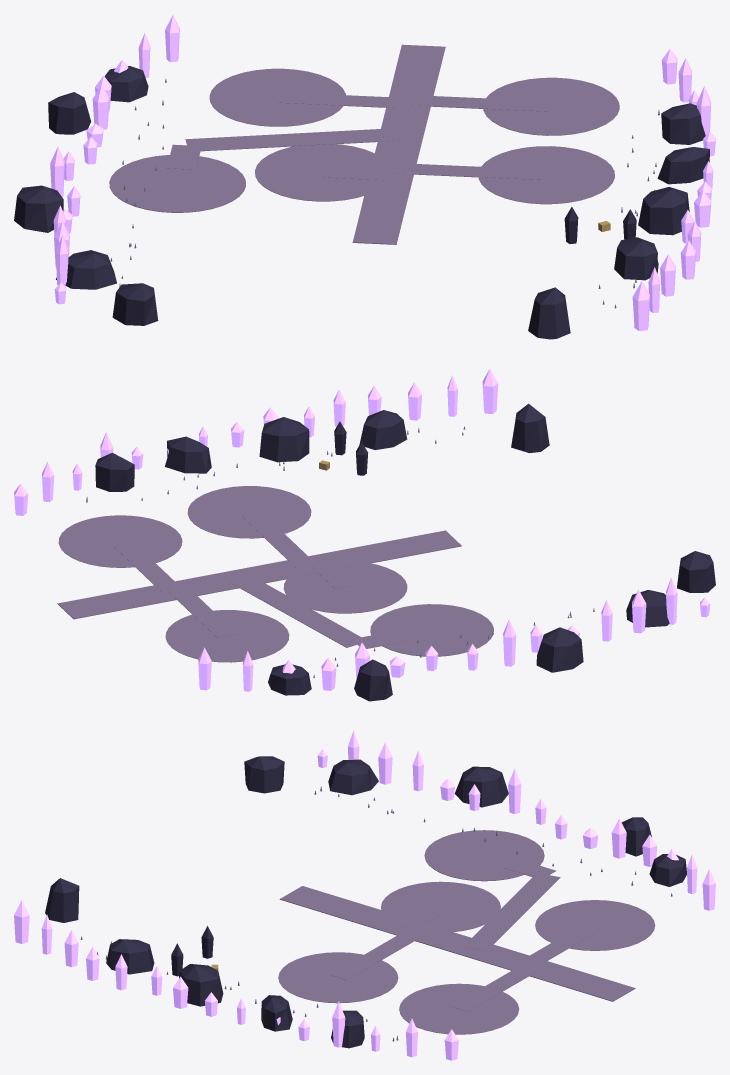
File: Grounds_VoidRift.glb
3 views of the same model, one above another, from view 1: azimuth 30°, elevation 25°; view 2: azimuth 150°, elevation 25°; view 3: azimuth 270°, elevation 25° (orthographic). The views are drawn at different scales.
Visible parts, largest first — view 1: Grounds_VoidRift_VoidRift_path_-3_-3, Grounds_VoidRift_VoidRift_path_-3_-4, Grounds_VoidRift_VoidRift_path_-2_-3, Grounds_VoidRift_VoidRift_path_-4_-3, Grounds_VoidRift_VoidRift_path_-2_-4, Grounds_VoidRift_VoidRift_dark_-2_-5, Grounds_VoidRift_VoidRift_dark_-4_-3, Grounds_VoidRift_VoidRift_dark_-4_-4, Grounds_VoidRift_VoidRift_dark_-2_-4, Grounds_VoidRift_VoidRift_accent_-4_-3, Grounds_VoidRift_VoidRift_accent_-2_-5, Grounds_VoidRift_VoidRift_dark_-3_-5 (+5 smaller); view 2: Grounds_VoidRift_VoidRift_path_-3_-3, Grounds_VoidRift_VoidRift_path_-3_-4, Grounds_VoidRift_VoidRift_path_-2_-3, Grounds_VoidRift_VoidRift_path_-4_-3, Grounds_VoidRift_VoidRift_path_-2_-4, Grounds_VoidRift_VoidRift_dark_-2_-5, Grounds_VoidRift_VoidRift_dark_-4_-3, Grounds_VoidRift_VoidRift_dark_-2_-4, Grounds_VoidRift_VoidRift_dark_-4_-4, Grounds_VoidRift_VoidRift_accent_-4_-3, Grounds_VoidRift_VoidRift_accent_-2_-5, Grounds_VoidRift_VoidRift_dark_-3_-5 (+6 smaller); view 3: Grounds_VoidRift_VoidRift_path_-3_-3, Grounds_VoidRift_VoidRift_path_-3_-4, Grounds_VoidRift_VoidRift_path_-2_-3, Grounds_VoidRift_VoidRift_path_-4_-3, Grounds_VoidRift_VoidRift_path_-2_-4, Grounds_VoidRift_VoidRift_dark_-2_-5, Grounds_VoidRift_VoidRift_dark_-4_-4, Grounds_VoidRift_VoidRift_dark_-4_-3, Grounds_VoidRift_VoidRift_accent_-4_-3, Grounds_VoidRift_VoidRift_accent_-2_-5, Grounds_VoidRift_VoidRift_dark_-2_-4, Grounds_VoidRift_VoidRift_dark_-3_-5 (+5 smaller).
Boxes of the visible parts, bbox=[...] form: Grounds_VoidRift_VoidRift_path_-3_-3: bbox=[166, 68, 429, 177]; Grounds_VoidRift_VoidRift_path_-3_-4: bbox=[255, 144, 547, 244]; Grounds_VoidRift_VoidRift_path_-2_-3: bbox=[389, 44, 619, 135]; Grounds_VoidRift_VoidRift_path_-4_-3: bbox=[109, 155, 245, 212]; Grounds_VoidRift_VoidRift_path_-2_-4: bbox=[478, 146, 614, 204]; Grounds_VoidRift_VoidRift_dark_-2_-5: bbox=[614, 187, 689, 280]; Grounds_VoidRift_VoidRift_dark_-4_-3: bbox=[14, 92, 91, 232]; Grounds_VoidRift_VoidRift_dark_-4_-4: bbox=[56, 250, 158, 325]; Grounds_VoidRift_VoidRift_dark_-2_-4: bbox=[657, 103, 709, 184]; Grounds_VoidRift_VoidRift_accent_-4_-3: bbox=[50, 84, 109, 233]; Grounds_VoidRift_VoidRift_accent_-2_-5: bbox=[660, 181, 711, 296]; Grounds_VoidRift_VoidRift_dark_-3_-5: bbox=[528, 207, 578, 339]; Grounds_VoidRift_VoidRift_path_-3_-3: bbox=[165, 555, 408, 662]; Grounds_VoidRift_VoidRift_path_-3_-4: bbox=[240, 510, 461, 613]; Grounds_VoidRift_VoidRift_path_-2_-3: bbox=[57, 515, 188, 619]; Grounds_VoidRift_VoidRift_path_-4_-3: bbox=[370, 604, 493, 656]; Grounds_VoidRift_VoidRift_path_-2_-4: bbox=[187, 486, 311, 538]; Grounds_VoidRift_VoidRift_dark_-2_-5: bbox=[259, 410, 407, 462]; Grounds_VoidRift_VoidRift_dark_-4_-3: bbox=[354, 627, 583, 701]; Grounds_VoidRift_VoidRift_dark_-2_-4: bbox=[95, 436, 211, 491]; Grounds_VoidRift_VoidRift_dark_-4_-4: bbox=[626, 551, 715, 627]; Grounds_VoidRift_VoidRift_accent_-4_-3: bbox=[355, 619, 579, 679]; Grounds_VoidRift_VoidRift_accent_-2_-5: bbox=[231, 382, 422, 447]; Grounds_VoidRift_VoidRift_dark_-3_-5: bbox=[356, 403, 549, 475]; Grounds_VoidRift_VoidRift_path_-3_-3: bbox=[392, 858, 655, 969]; Grounds_VoidRift_VoidRift_path_-3_-4: bbox=[279, 881, 500, 979]; Grounds_VoidRift_VoidRift_path_-2_-3: bbox=[399, 961, 635, 1034]; Grounds_VoidRift_VoidRift_path_-4_-3: bbox=[424, 830, 544, 881]; Grounds_VoidRift_VoidRift_path_-2_-4: bbox=[278, 952, 398, 1003]; Grounds_VoidRift_VoidRift_dark_-2_-5: bbox=[106, 939, 223, 1006]; Grounds_VoidRift_VoidRift_dark_-4_-4: bbox=[244, 756, 378, 795]; Grounds_VoidRift_VoidRift_dark_-4_-3: bbox=[454, 766, 651, 856]; Grounds_VoidRift_VoidRift_accent_-4_-3: bbox=[440, 768, 626, 858]; Grounds_VoidRift_VoidRift_accent_-2_-5: bbox=[64, 930, 217, 1016]; Grounds_VoidRift_VoidRift_dark_-2_-4: bbox=[261, 995, 364, 1048]; Grounds_VoidRift_VoidRift_dark_-3_-5: bbox=[45, 878, 213, 958].
Size of the model in its own units: 328 by 28.37 by 327.
